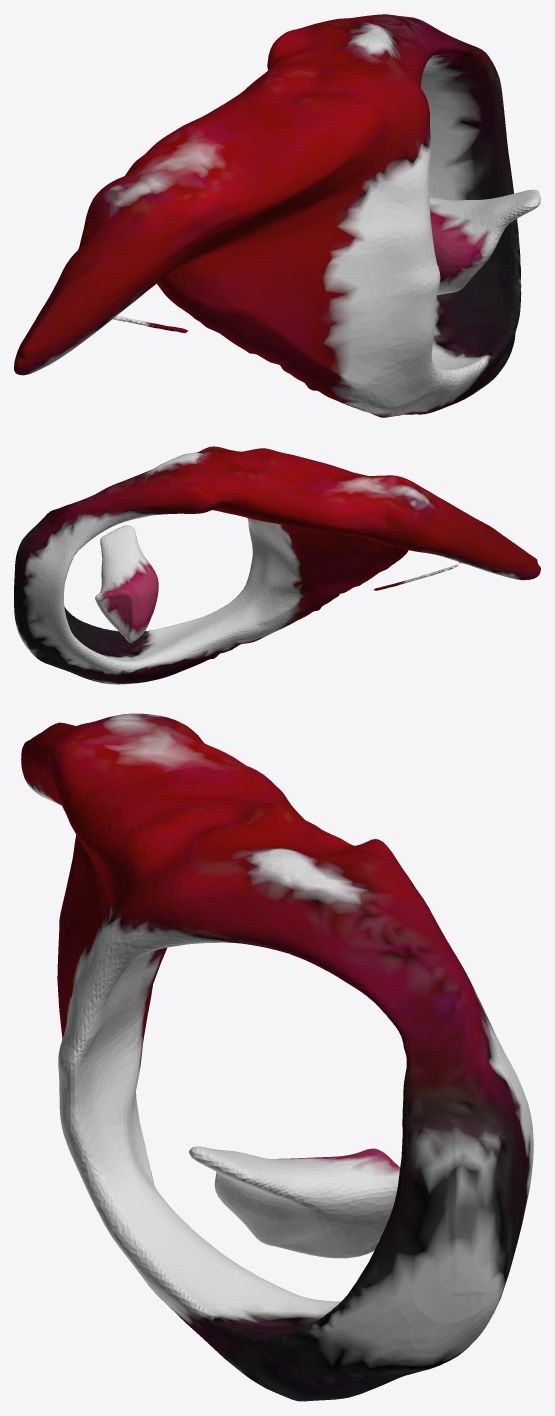
Rendered from eye.glb.
3 views of the same model, one above another, from view 1: azimuth 30°, elevation 25°; view 2: azimuth 150°, elevation 25°; view 3: azimuth 270°, elevation 25° (orthographic). The views are drawn at different scales.
Parts seen in each view (by area): view 1: geometry_0; view 2: geometry_0; view 3: geometry_0.
Boxes of the visible parts, bbox=[...] form: geometry_0: bbox=[14, 14, 540, 417]; geometry_0: bbox=[14, 446, 540, 684]; geometry_0: bbox=[21, 713, 533, 1401].
Bounding box in the file's own units: 0.5 × 0.2755 × 0.2699.
